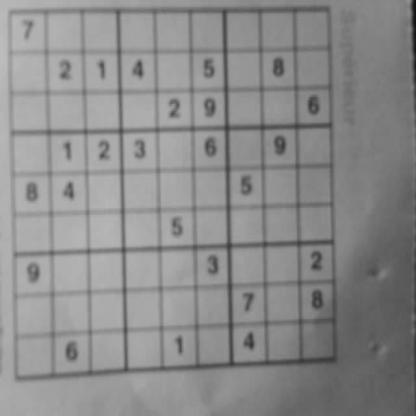sudoku: (6, 1, 342, 386)
